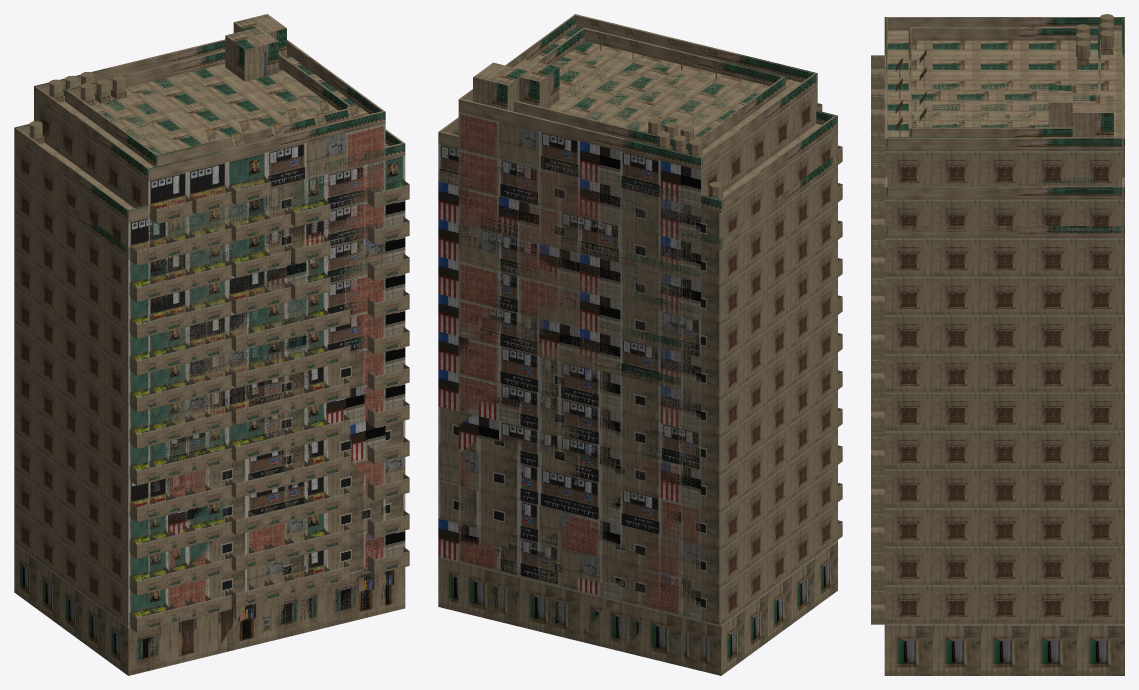
3 views of the same model, side by side, from view 1: azimuth 30°, elevation 25°; view 2: azimuth 150°, elevation 25°; view 3: azimuth 270°, elevation 25° (orthographic). The views are drawn at different scales.
Visible parts, largest first — view 1: Plaster_6x5_f12_v1, Plaster_7x5_f10_v0, Plaster_5x5_f6_v0, Plaster_5x5_f11_v0, Plaster_7x5_f11_v0, Plaster_5x4_f12_v0, Plaster_5x5_f7_v0, Plaster_6x5_f8_v0, Plaster_5x5_f11_v1, Plaster_6x5_f8_v1, Plaster_6x4_f11_v1; view 2: Plaster_6x5_f12_v1, Plaster_7x5_f10_v0, Plaster_5x5_f6_v0, Plaster_5x5_f11_v0, Plaster_5x4_f12_v0, Plaster_7x5_f11_v0, Plaster_5x5_f7_v0, Plaster_6x5_f9_v1, Plaster_6x5_f8_v0; view 3: Plaster_7x5_f10_v0, Plaster_6x5_f12_v1, Plaster_7x5_f11_v0, Plaster_5x4_f12_v0, Plaster_6x4_f11_v1, Plaster_5x5_f11_v0, Plaster_6x5_f8_v0.
Boxes of the visible parts, <box> form: Plaster_6x5_f12_v1: <box>34,14,385,670</box>; Plaster_7x5_f10_v0: <box>14,164,405,675</box>; Plaster_5x5_f6_v0: <box>168,337,365,666</box>; Plaster_5x5_f11_v0: <box>168,154,365,349</box>; Plaster_7x5_f11_v0: <box>14,121,409,574</box>; Plaster_5x4_f12_v0: <box>65,27,354,166</box>; Plaster_5x5_f7_v0: <box>168,300,365,603</box>; Plaster_6x5_f8_v0: <box>148,258,385,588</box>; Plaster_5x5_f11_v1: <box>170,228,211,621</box>; Plaster_6x5_f8_v1: <box>269,314,310,594</box>; Plaster_6x4_f11_v1: <box>45,132,136,207</box>; Plaster_6x5_f12_v1: <box>458,14,822,670</box>; Plaster_7x5_f10_v0: <box>438,153,842,675</box>; Plaster_5x5_f6_v0: <box>478,330,680,665</box>; Plaster_5x5_f11_v0: <box>478,142,680,352</box>; Plaster_5x4_f12_v0: <box>508,27,785,154</box>; Plaster_7x5_f11_v0: <box>438,110,842,249</box>; Plaster_5x5_f7_v0: <box>479,298,680,390</box>; Plaster_6x5_f9_v1: <box>459,212,700,282</box>; Plaster_6x5_f8_v0: <box>459,253,700,319</box>; Plaster_7x5_f10_v0: <box>884,226,1124,675</box>; Plaster_6x5_f12_v1: <box>871,14,1124,239</box>; Plaster_7x5_f11_v0: <box>871,171,1124,624</box>; Plaster_5x4_f12_v0: <box>908,24,1100,137</box>; Plaster_6x4_f11_v1: <box>908,177,1100,186</box>; Plaster_5x5_f11_v0: <box>871,144,884,282</box>; Plaster_6x5_f8_v0: <box>871,316,884,590</box>.
Bounding box in the file's own units: 24.5 × 44.1 × 18.5.
1 material, 1 textured.
